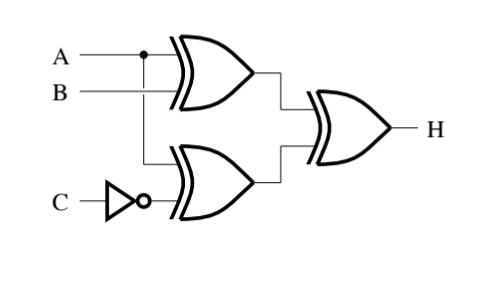xor: (164, 135, 263, 231), (163, 26, 263, 117), (300, 81, 398, 168)
